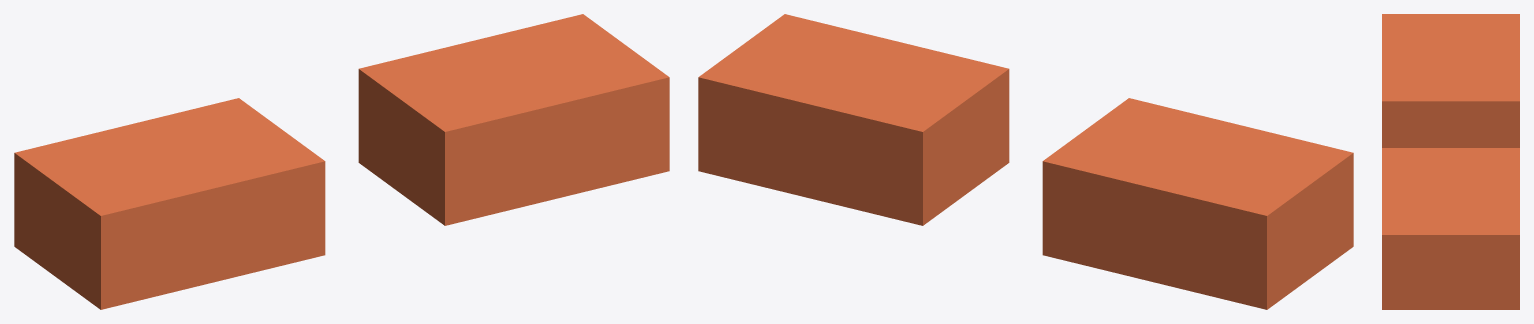
Rendered from endurance-and-gt-paddock-wheel-chock-pair-ae2ead7a__14941.glb.
The picture shows the model from 3 angles, left to right: view 1: azimuth 30°, elevation 25°; view 2: azimuth 150°, elevation 25°; view 3: azimuth 270°, elevation 25°; orthographic projection. The views are drawn at different scales.
Parts seen in each view (by area): view 1: wheel-chock-pair; view 2: wheel-chock-pair; view 3: wheel-chock-pair.
Boxes of the visible parts, x1,y1,x2,y2 form: wheel-chock-pair: (14, 14, 669, 309); wheel-chock-pair: (698, 14, 1353, 309); wheel-chock-pair: (1382, 14, 1519, 309).
Size of the model in its own units: 0.76 by 0.12 by 0.2.
